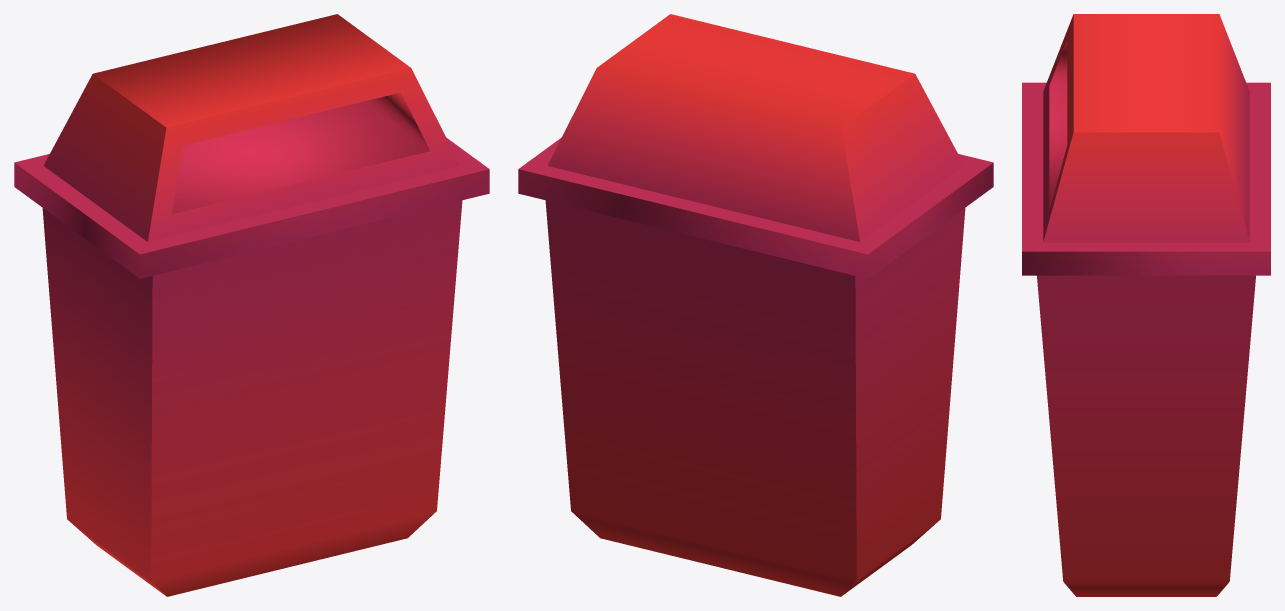
File: Lixeira_Plast.fbx
The picture shows the model from 3 angles, left to right: view 1: azimuth 30°, elevation 25°; view 2: azimuth 150°, elevation 25°; view 3: azimuth 270°, elevation 25°; orthographic projection.
Visible parts, largest first — view 1: Lixeira_Plast; view 2: Lixeira_Plast; view 3: Lixeira_Plast.
Part boxes in pixels (x1,y1,x2,y2): Lixeira_Plast: (14,14,489,596); Lixeira_Plast: (518,14,993,596); Lixeira_Plast: (1022,14,1270,596).
Size of the model in its own units: 14.2 by 18.27 by 8.84.
